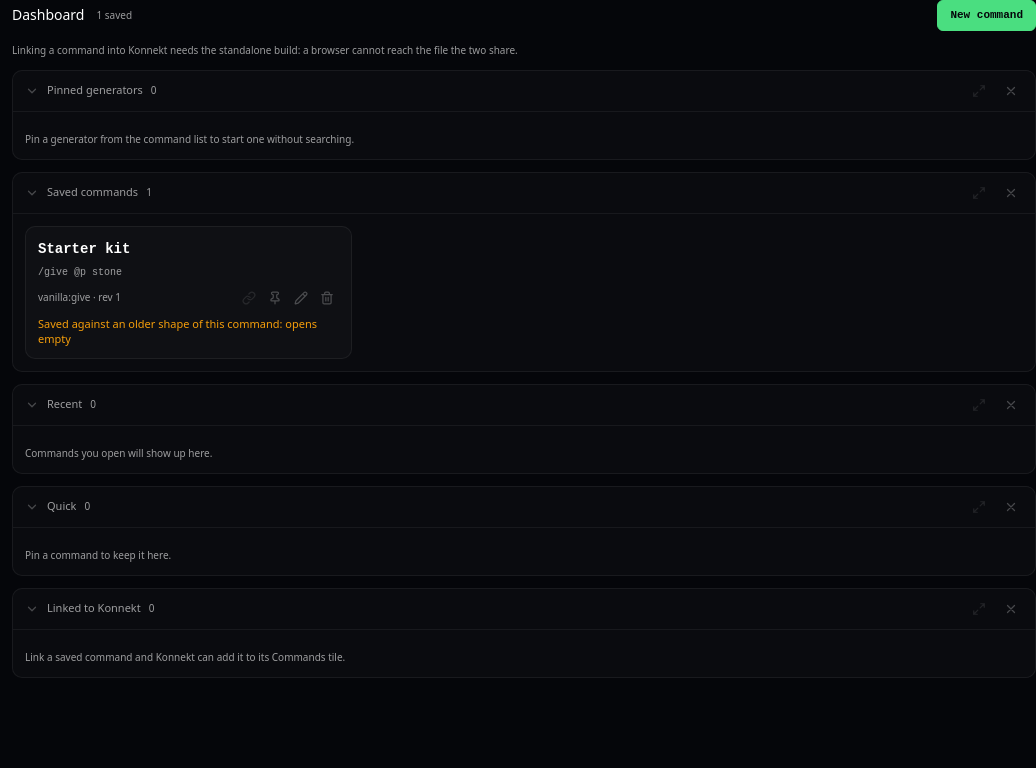
Test: renaming a tile keeps its revision
Click the button named "Rename Starter kit": point(301, 298) [289,286,313,310]
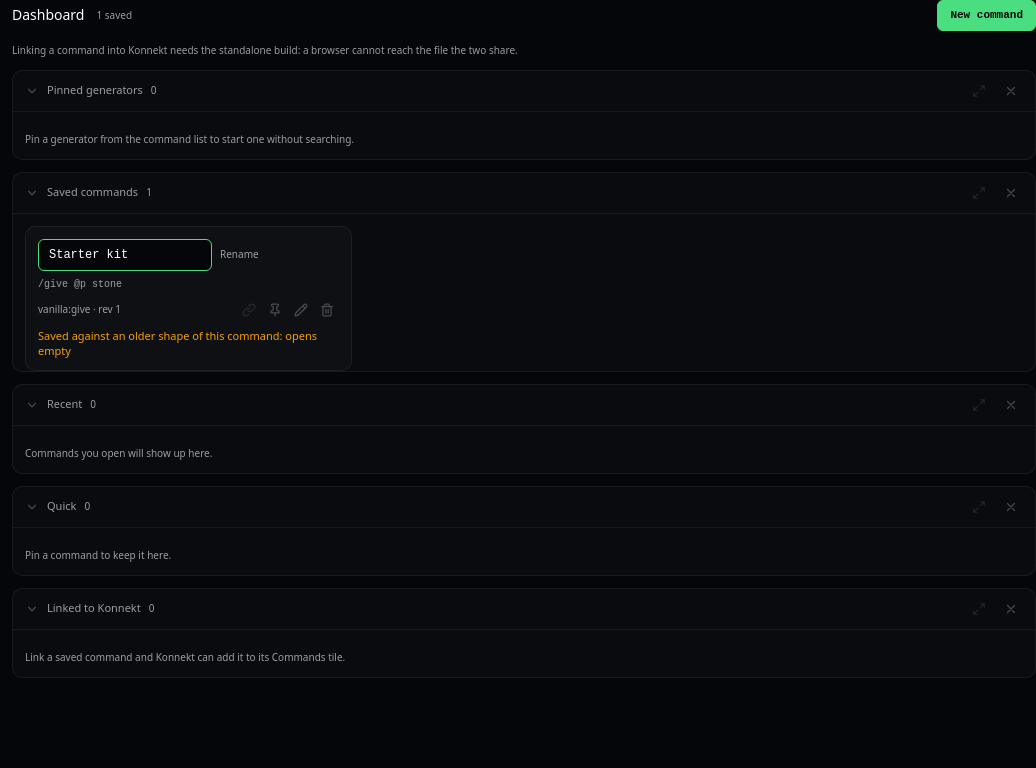
Replace the text in the field named "Name" with "Kit v2": point(125, 254) [38,238,212,270]
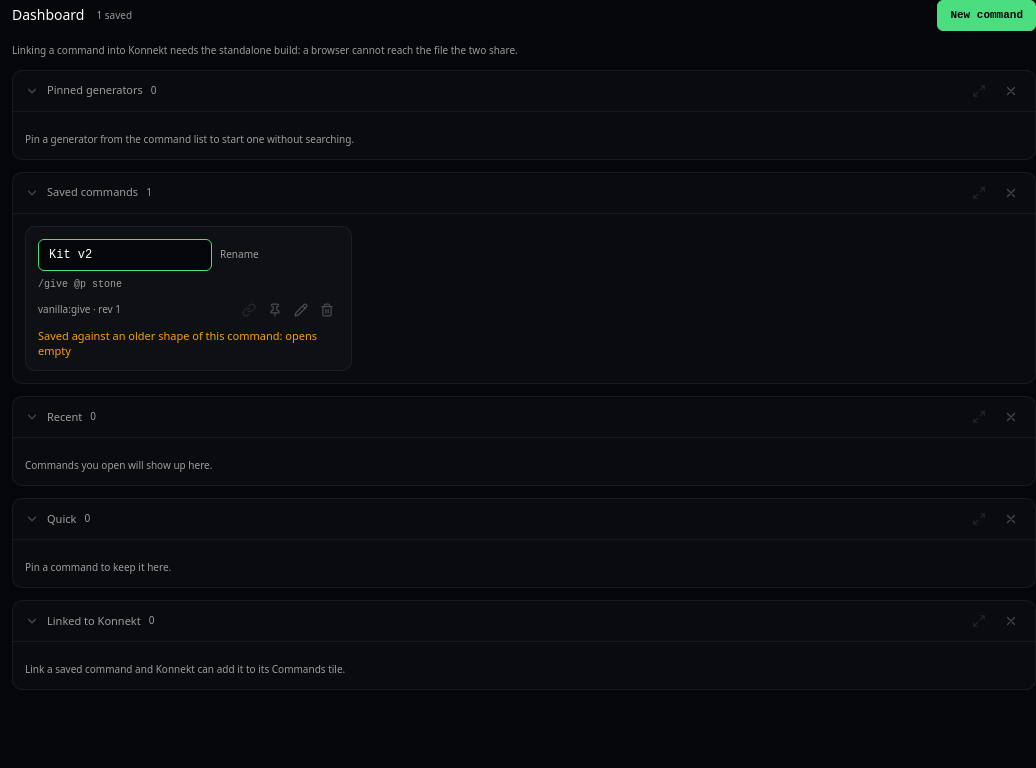
Click the button "Rename": point(239, 254) [220,247,259,262]
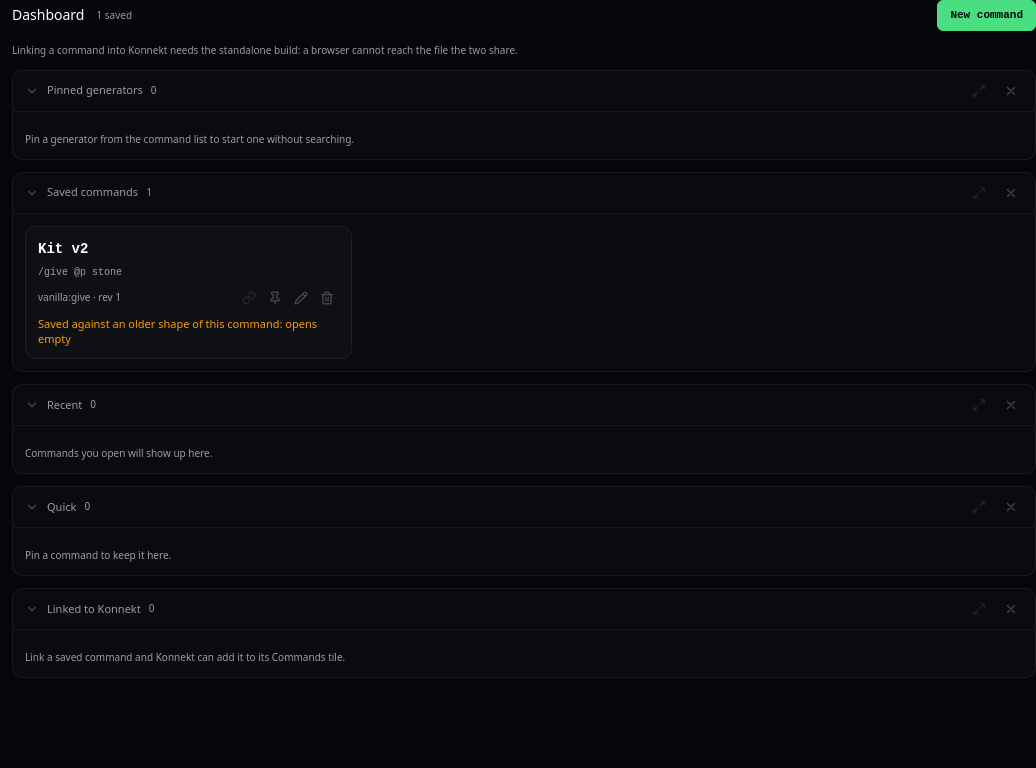
Now the button "Kit v2" is shown, box [38,238,339,258]
